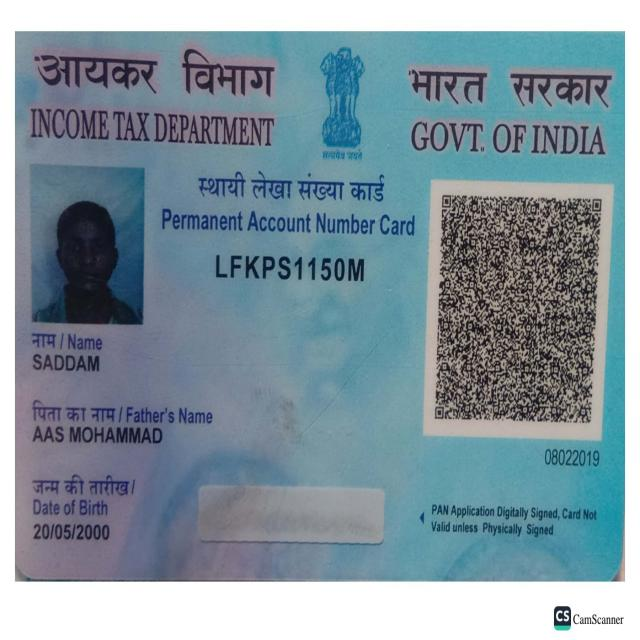pan_card: (14, 29, 624, 580)
